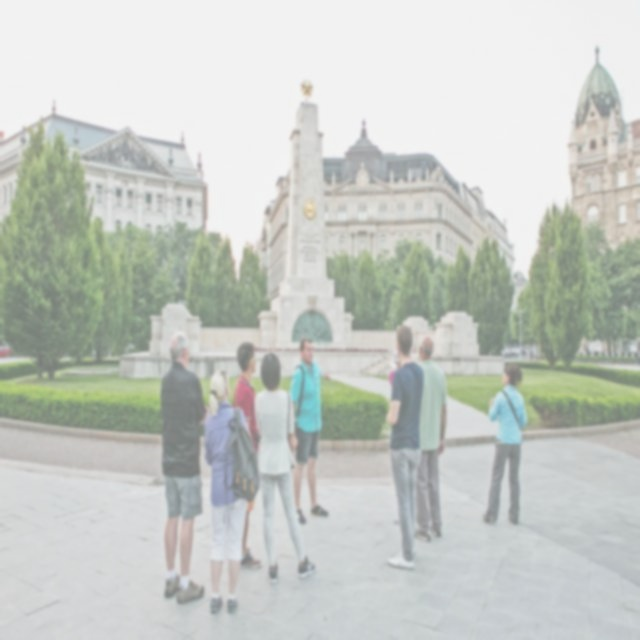pessoa: (252, 350, 318, 588), (200, 366, 262, 617), (158, 328, 208, 606), (384, 322, 426, 576), (286, 334, 332, 526), (480, 358, 530, 528), (408, 333, 448, 544), (232, 340, 263, 570), (386, 350, 424, 530), (354, 161, 371, 191), (122, 136, 130, 166), (138, 148, 148, 170), (107, 143, 116, 166), (94, 148, 108, 162), (130, 144, 136, 169), (148, 158, 158, 173), (116, 140, 122, 164), (583, 346, 591, 358)
